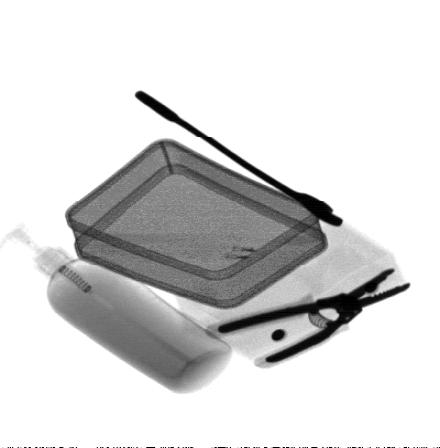Pliers: (203, 266, 412, 371)
Wrench: (131, 87, 346, 228)
